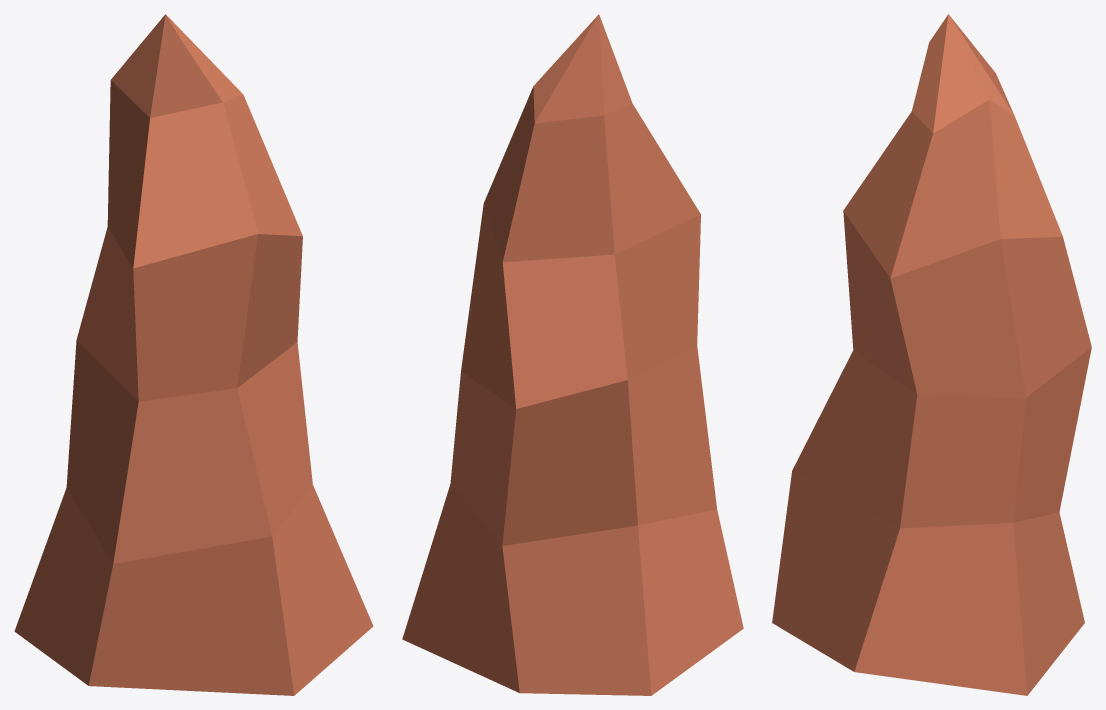
The model's file is Rock3-col.glb.
3 views of the same model, side by side, from view 1: azimuth 30°, elevation 25°; view 2: azimuth 150°, elevation 25°; view 3: azimuth 270°, elevation 25° (orthographic). The views are drawn at different scales.
Visible parts, largest first — view 1: Rock3-col; view 2: Rock3-col; view 3: Rock3-col.
Part boxes in pixels (left/top/right/bottom): Rock3-col: left=14, top=14, right=373, bottom=695; Rock3-col: left=402, top=14, right=743, bottom=695; Rock3-col: left=772, top=14, right=1091, bottom=695.
Size of the model in its own units: 1.65 by 3.73 by 1.77.
